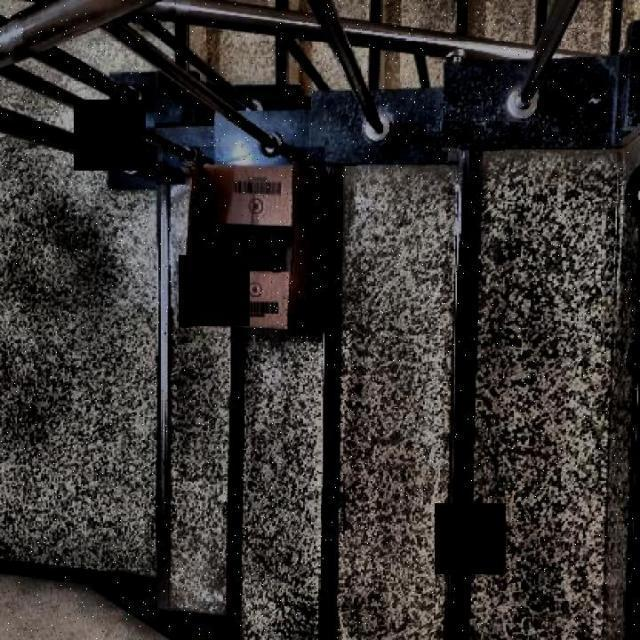box: (162, 146, 326, 342)
